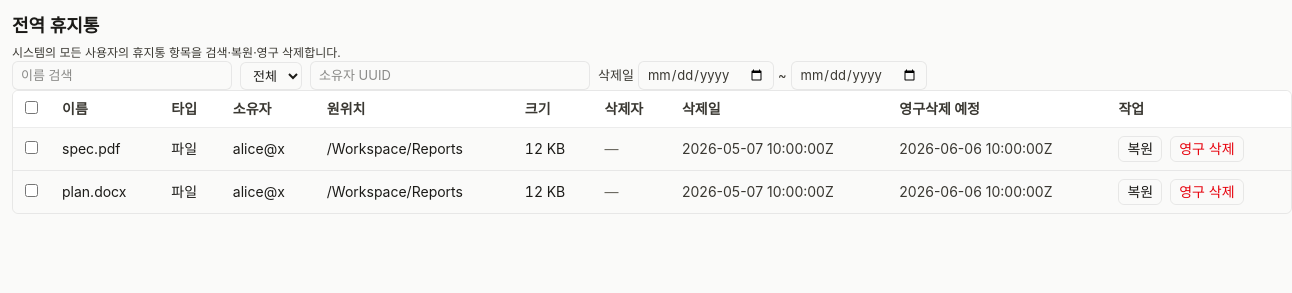
Test: /admin/trash/all › 부분 실패 응답 → 자세히 펼치면 failed 항목 노출
Click the checkbox named "전체 선택": point(32, 108) [25,101,38,114]
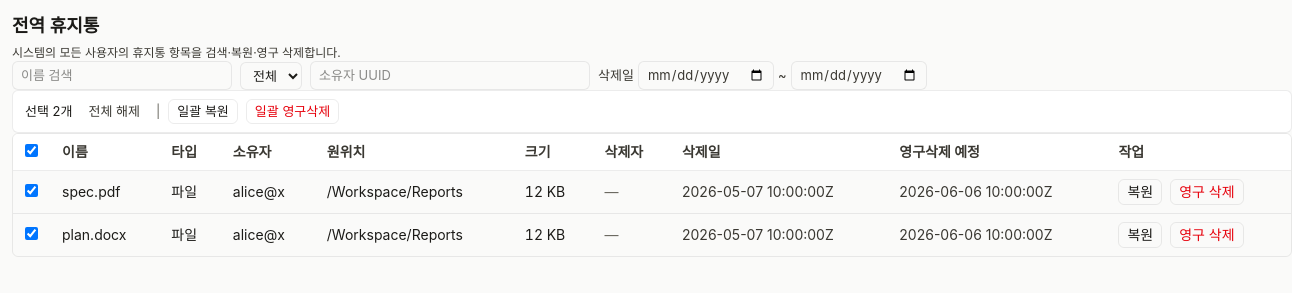
Click the button "일괄 복원": point(203, 112) [168,99,238,124]
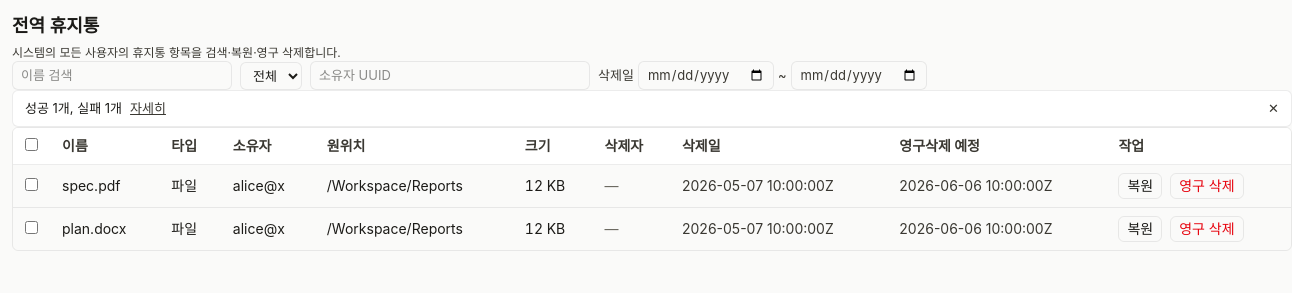
Check: the message with test id "admin-trash-bulk-result" shows "성공 1개, 실패 1개", box [25,100,122,116]
//  자세히 펼치기
Click the button "자세히": point(148, 109) [130,99,166,118]
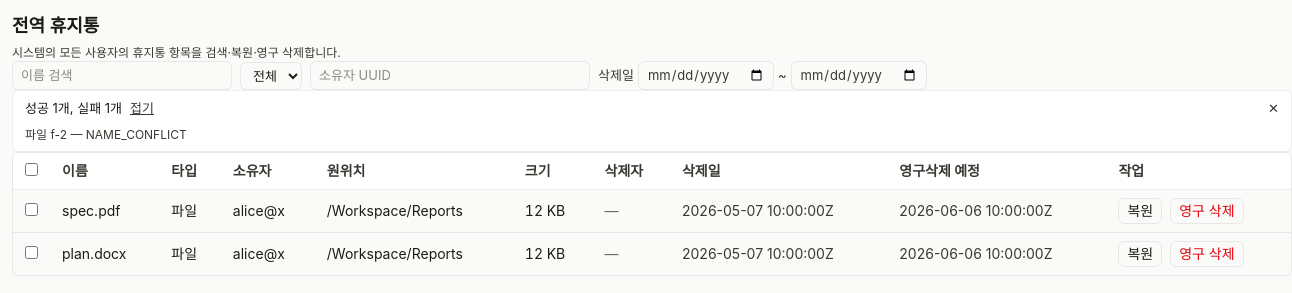
Check: the message with test id "admin-trash-bulk-result" shows "NAME_CONFLICT", box [86,127,187,142]
Check: the message with test id "admin-trash-bulk-result" shows "f-2", box [50,127,67,142]
